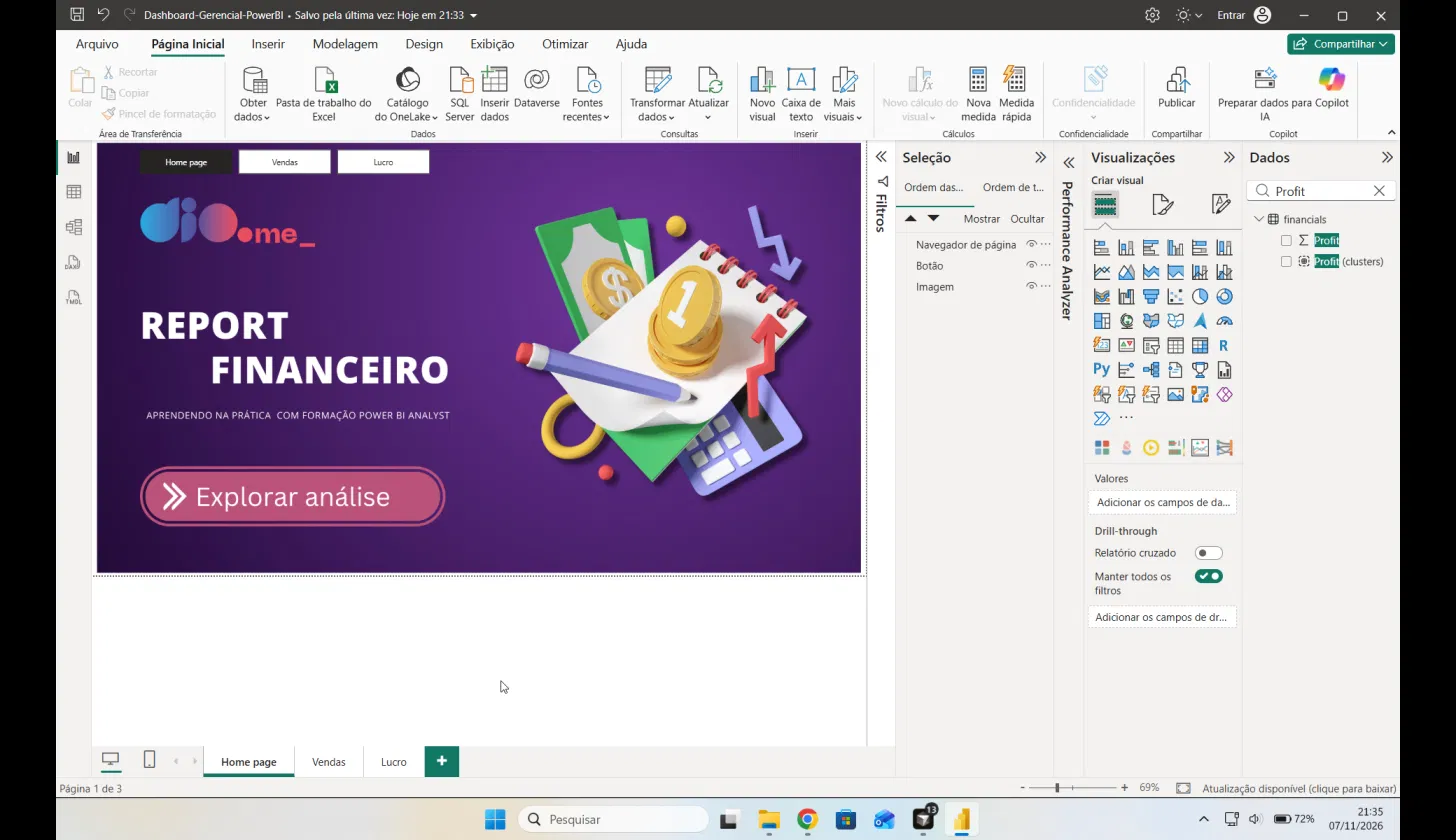

What the dashboard file says about the page in this screenshot:
{"tool":"powerbi","page":{"name":"Home page","canvas":[1280,720],"ordinal":0},"visuals":[{"type":"image","box":[0,0,1279.9,720],"z":0},{"type":"actionButton","box":[88,531.7,491.4,114.9],"z":1000},{"type":"pageNavigator","box":[80,16,480,40],"z":2000}]}

Visuals, with their boxes on the page's 1280x720 design canvas (x1, y1, x2, y2). These are canvas units, not pixel positions in the 1456x840 screenshot, which may show the page scaled, cropped or inside an application window:
image: {"left": 0, "top": 0, "right": 1280, "bottom": 720}
actionButton: {"left": 88, "top": 532, "right": 579, "bottom": 647}
pageNavigator: {"left": 80, "top": 16, "right": 560, "bottom": 56}
